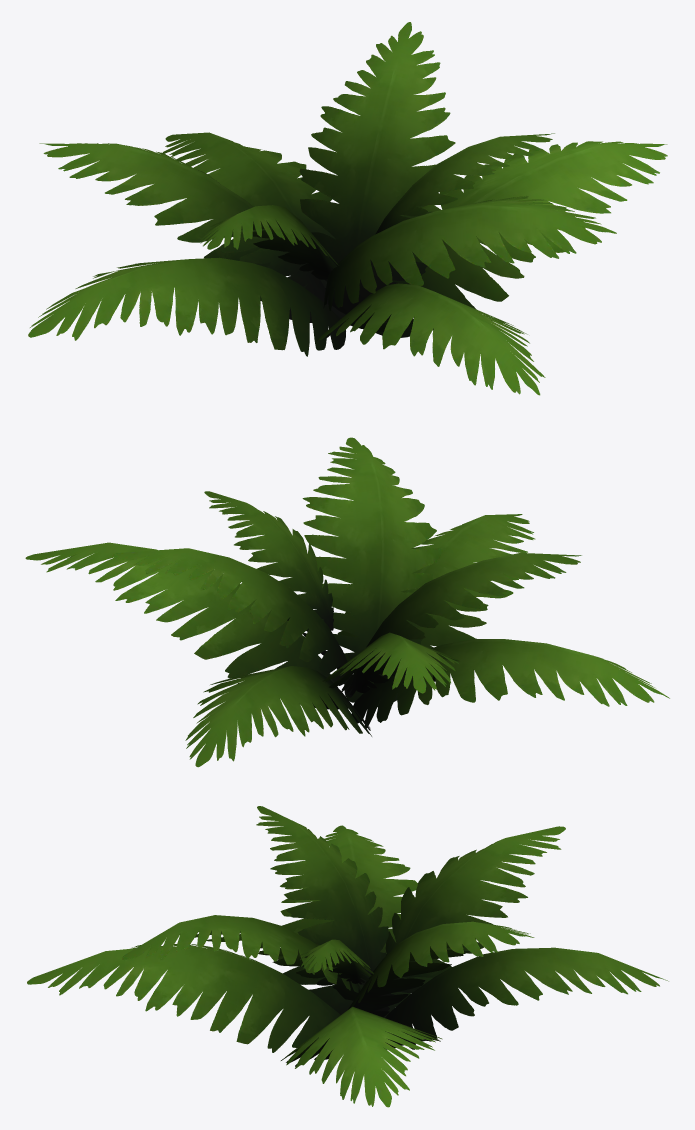
File: Fern_1.gltf
The picture shows the model from 3 angles, top to bottom: view 1: azimuth 30°, elevation 25°; view 2: azimuth 150°, elevation 25°; view 3: azimuth 270°, elevation 25°; orthographic projection. The views are drawn at different scales.
Parts seen in each view (by area): view 1: Fern_1; view 2: Fern_1; view 3: Fern_1.
Boxes of the visible parts, <box> form: Fern_1: <box>28,22,667,395</box>; Fern_1: <box>25,437,669,767</box>; Fern_1: <box>27,806,668,1107</box>.
Size of the model in its own units: 2.83 by 0.8402 by 2.65.
Materials: 1 (1 with a texture image).
